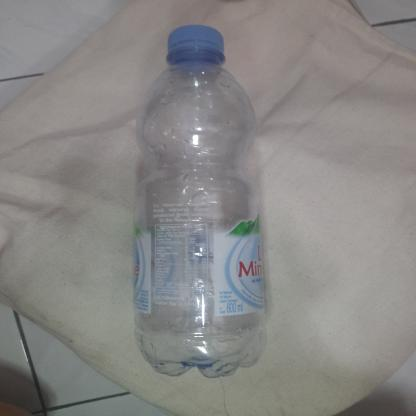plastic: (126, 20, 269, 380)
